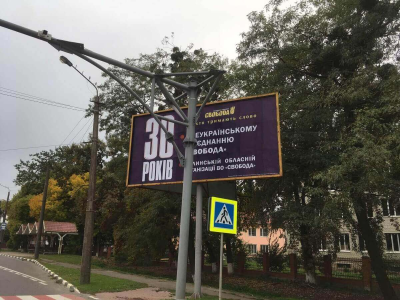crosswalk: (214, 201, 234, 231)
